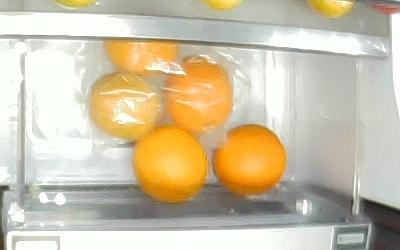orange: (132, 124, 207, 203), (213, 124, 287, 195)
orange_vinyl: (164, 54, 233, 133), (89, 71, 163, 141), (103, 39, 180, 77)
